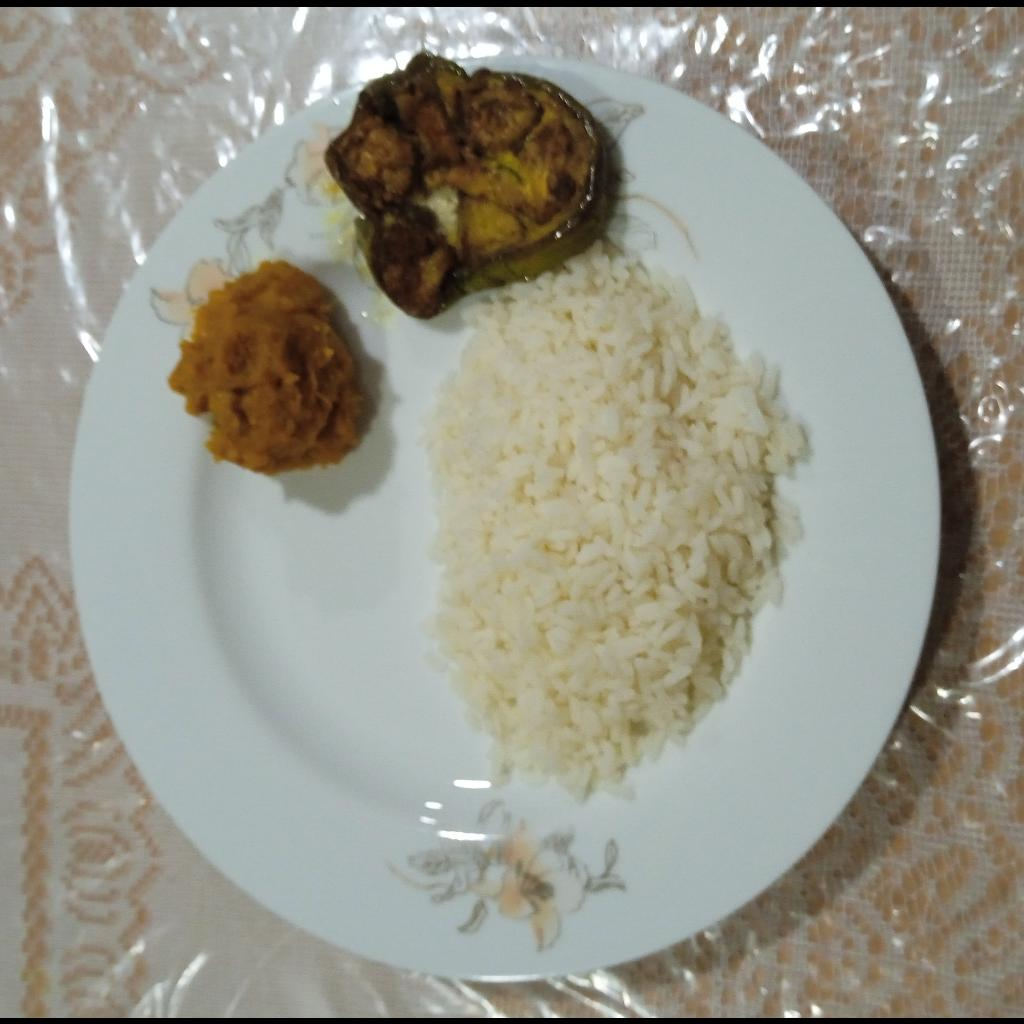egg: (320, 44, 614, 321)
kumra-vaji: (164, 259, 372, 474)
rice: (416, 237, 810, 806)
